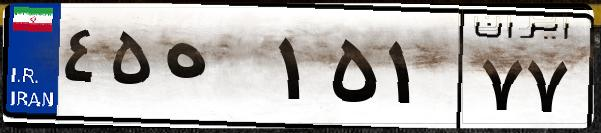1: (270, 28, 330, 110), (385, 28, 445, 110)
4: (57, 26, 110, 100)
5: (330, 28, 385, 110), (110, 28, 158, 98)
7: (475, 38, 525, 113), (525, 38, 570, 115)
ه: (158, 20, 270, 120)
